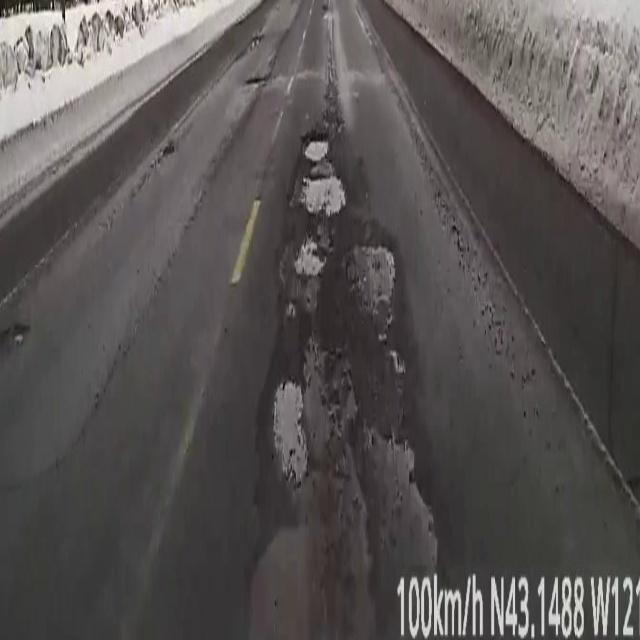pothole: (257, 125, 446, 588)
